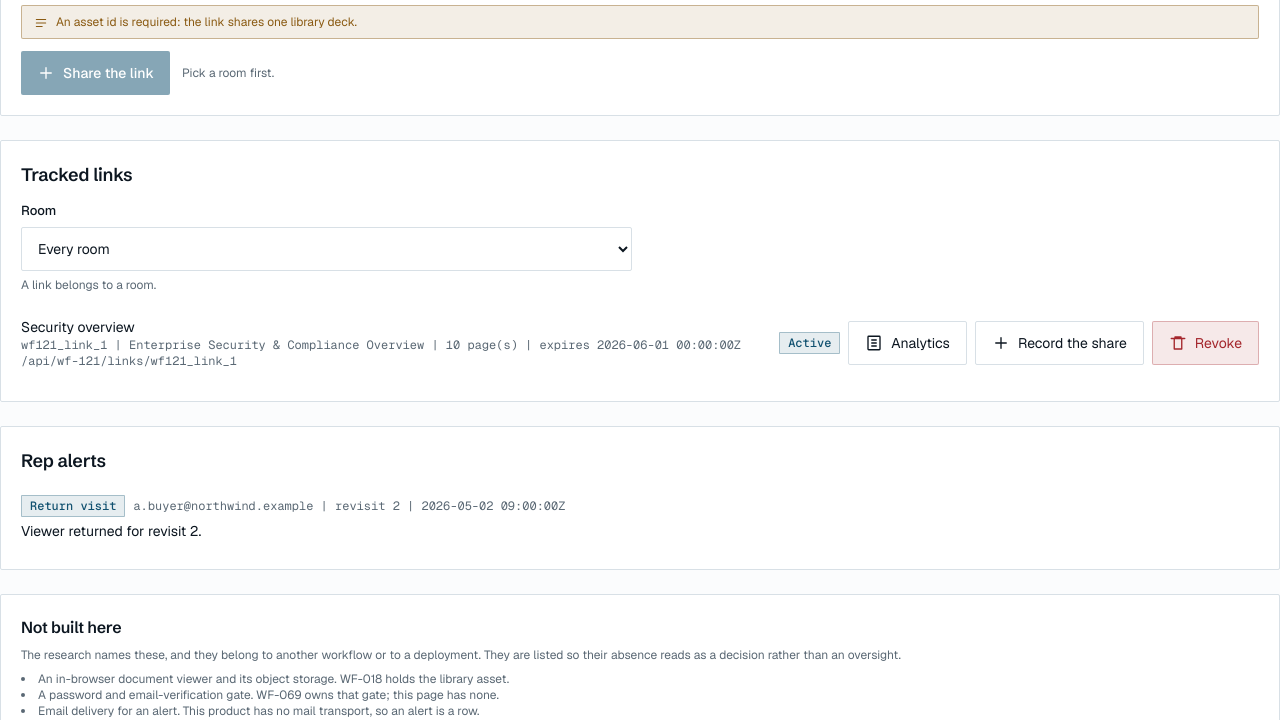
Scenario: the page › opens the analytics panel and reads the per-page dwell and drop-off
The width and height of the screenshot is (1280, 720).
(page scrolled)
What coordinates should you click on to do the following:
click the button "Analytics"
I would click on:
 (908, 344)
Its box is x1=848 y1=322 x2=967 y2=366.
(page scrolled)
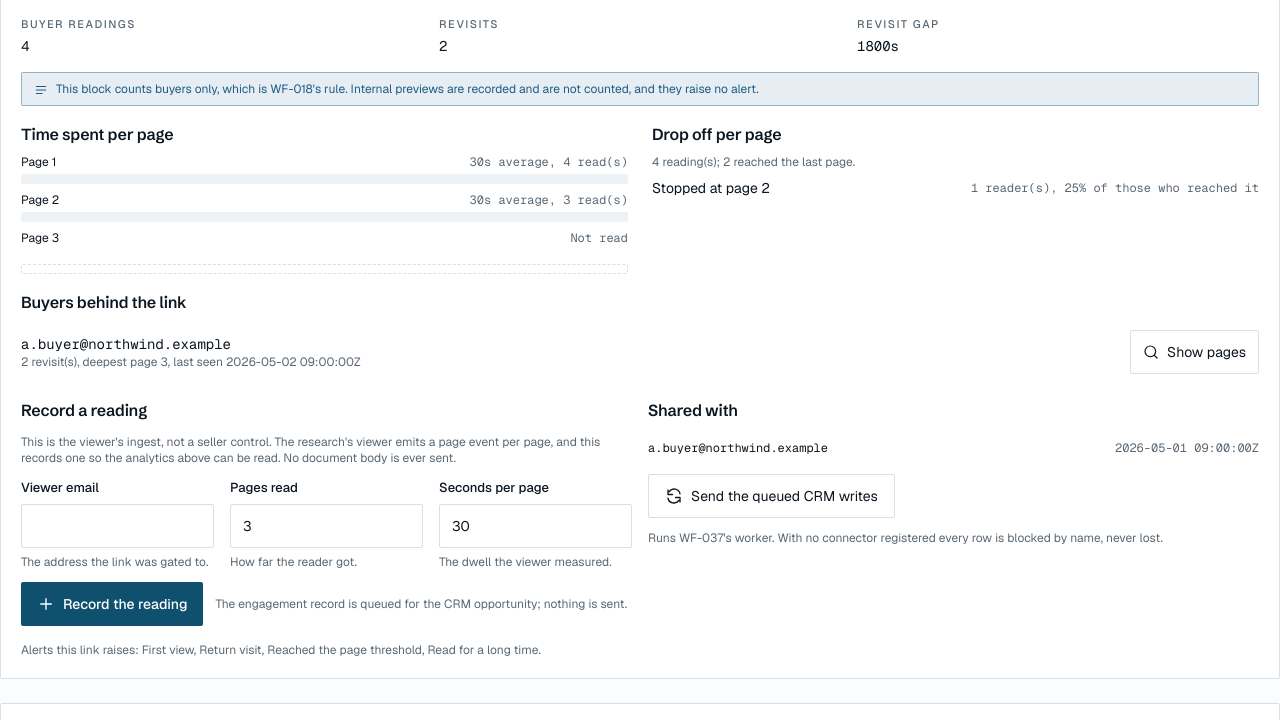
Result: the heading "Time spent per page" is shown at x1=21 y1=124 x2=174 y2=144
Result: the text "Not read" is shown at x1=570 y1=230 x2=628 y2=246
Result: the text "4 reading(s); 2 reached the last page." is shown at x1=652 y1=154 x2=855 y2=170
